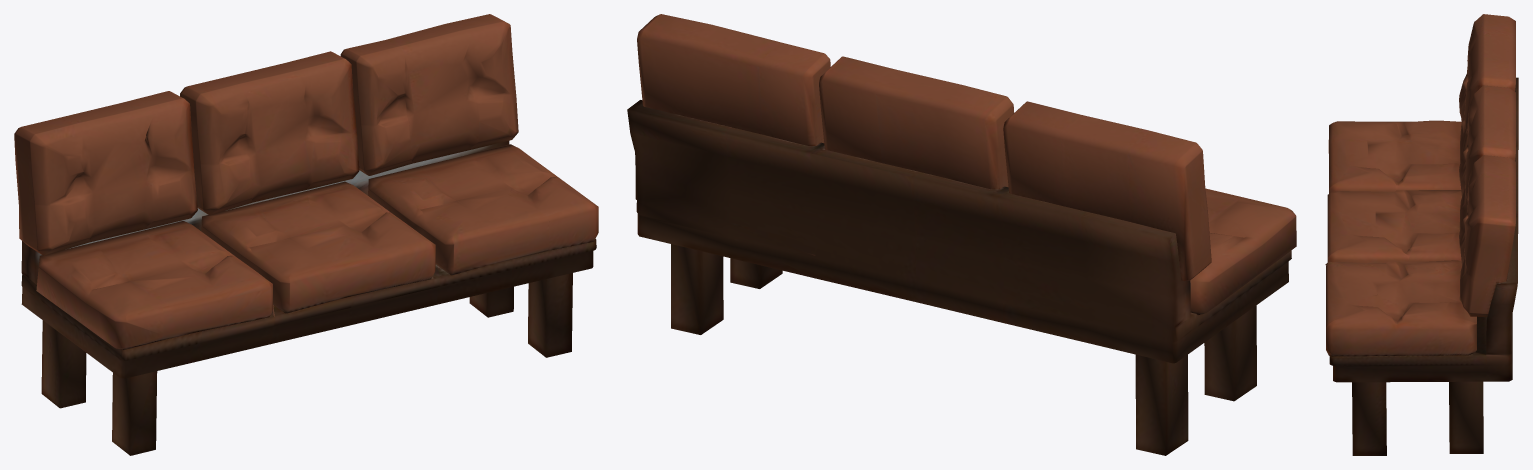
The model's file is Bank_LeatherBench.glb.
The picture shows the model from 3 angles, left to right: view 1: azimuth 30°, elevation 25°; view 2: azimuth 150°, elevation 25°; view 3: azimuth 270°, elevation 25°; orthographic projection. The views are drawn at different scales.
Parts seen in each view (by area): view 1: tripo_node_06ea89a5-9366-495e-8a1b-25ae48477db6; view 2: tripo_node_06ea89a5-9366-495e-8a1b-25ae48477db6; view 3: tripo_node_06ea89a5-9366-495e-8a1b-25ae48477db6.
Part boxes in pixels (<box>): tripo_node_06ea89a5-9366-495e-8a1b-25ae48477db6: <box>14,14,598,455</box>; tripo_node_06ea89a5-9366-495e-8a1b-25ae48477db6: <box>627,14,1296,455</box>; tripo_node_06ea89a5-9366-495e-8a1b-25ae48477db6: <box>1325,14,1518,455</box>.
Bounding box in the file's own units: 1 × 0.5447 × 0.3923.
Materials: 1 (1 with a texture image).
